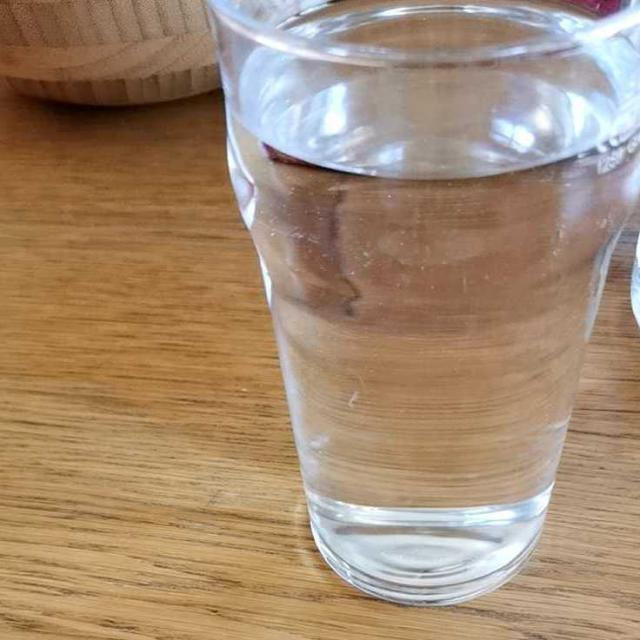water: (245, 68, 621, 582)
